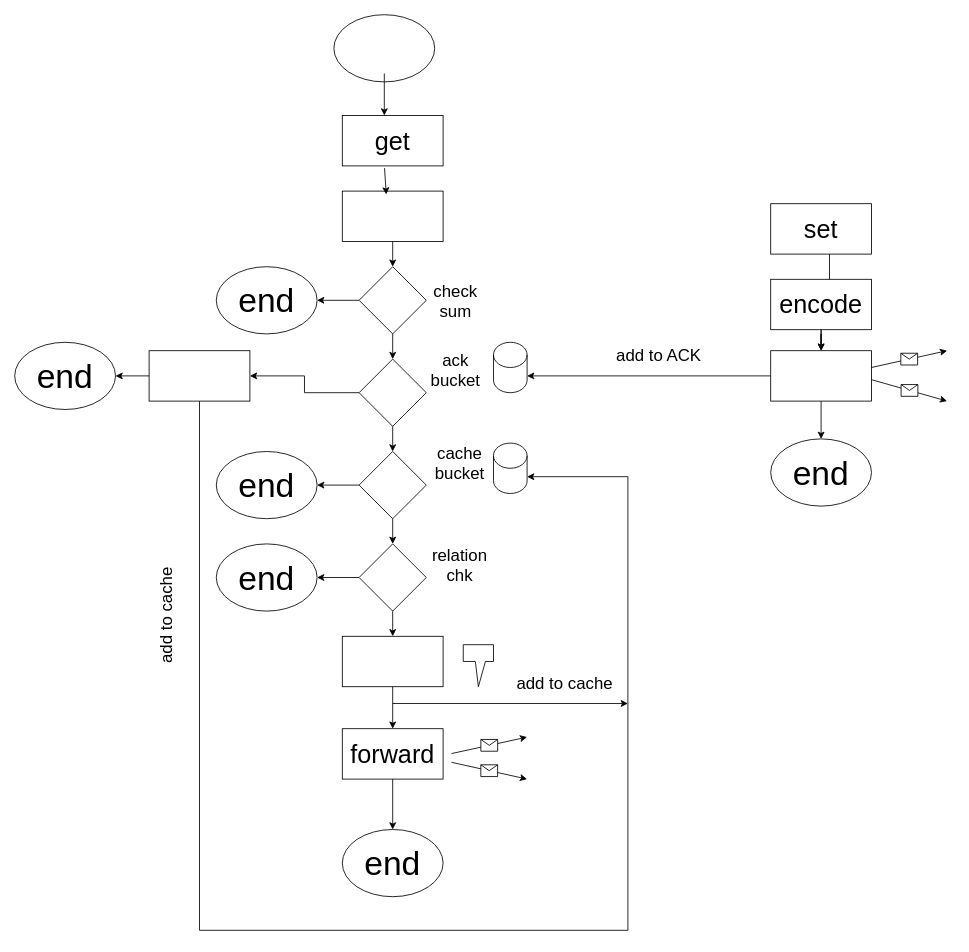
Image size: 969x952. Some labels were removed from this diagram. The centre of each missing label's shape, as x and y in pixels:
"confirm" goes at point (199, 375).
"decode" goes at point (392, 216).
"fetch inbox" goes at point (392, 661).
"send" goes at point (821, 375).
"start" goes at point (384, 48).
